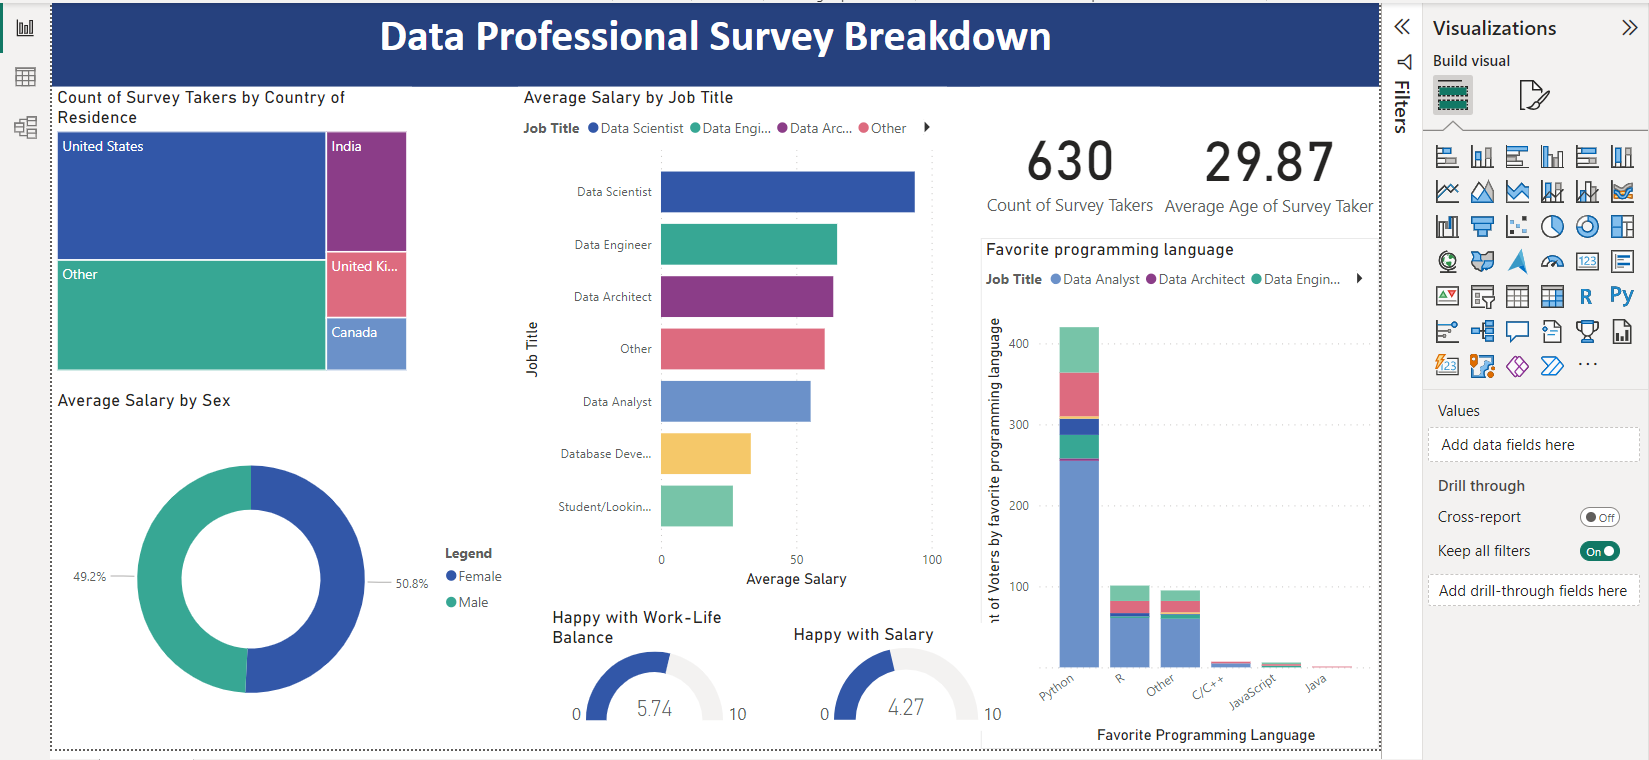

What the dashboard file says about the page in this screenshot:
{"tool":"powerbi","page":{"name":"Page 1","canvas":[1280,720],"ordinal":0},"visuals":[{"type":"textbox","box":[10,0,280,280],"z":0},{"type":"textbox","box":[10,290,280,280],"z":1000},{"type":"textbox","box":[0,0,1280.6,80.9],"z":2000},{"type":"card","fields":{"Values":["CountNonNull(Data Professional Survey.Unique ID)"]},"box":[896.1,80.8,172.5,149.5],"z":3000},{"type":"card","fields":{"Values":["Avg(Data Professional Survey.Q10 - Current Age)"]},"box":[1067.3,82,213.5,149.5],"z":4000},{"type":"barChart","title":"Average Salary by Job Title","fields":{"Category":["Data Professional Survey.Q1 - Which Title Best Fits your Current Role?.1"],"Y":["Avg(Data Professional Survey.Average Salary)"],"Series":["Data Professional Survey.Q1 - Which Title Best Fits your Current Role?.1"]},"box":[449.8,80.8,413.7,488.4],"z":5000},{"type":"columnChart","title":"Favorite programming language","fields":{"Category":["Data Professional Survey.Q5 - Favorite Programming Language.1"],"Y":["CountNonNull(Data Professional Survey.Unique ID)"],"Series":["Data Professional Survey.Q1 - Which Title Best Fits your Current Role?.1"]},"box":[896.1,226.7,383.5,493.3],"z":6000},{"type":"treemap","fields":{"Group":["Data Professional Survey.Q11 - Which Country do you live in?.1"],"Values":["CountNonNull(Data Professional Survey.Q11 - Which Country do you live in?.1)"]},"box":[0,80.8,347.3,278.6],"z":7000},{"type":"gauge","title":"Happy with Work-Life Balance","fields":{"Y":["Avg(Data Professional Survey.Q6 - How Happy are you in your Current Position with the following? (Work/Life Balance))"],"MinValue":["Min(Data Professional Survey.Q6 - How Happy are you in your Current Position with the following? (Work/Life Balance))1"],"MaxValue":["Max(Data Professional Survey.Q6 - How Happy are you in your Current Position with the following? (Work/Life Balance))2"]},"box":[477.6,582.5,215.9,119.4],"z":8000},{"type":"gauge","title":"Happy with Salary","fields":{"Y":["Avg(Data Professional Survey.Q6 - How Happy are you in your Current Position with the following? (Salary))"],"MinValue":["Min(Data Professional Survey.Q6 - How Happy are you in your Current Position with the following? (Salary))"],"MaxValue":["Max(Data Professional Survey.Q6 - How Happy are you in your Current Position with the following? (Salary))"]},"box":[710.4,598.2,236.4,103.7],"z":9000},{"type":"donutChart","title":"Average Salary by Sex","fields":{"Category":["Data Professional Survey.Q9 - Male/Female?"],"Y":["Avg(Data Professional Survey.Average Salary)"]},"box":[0,372.7,449.8,347.3],"z":9001}]}

Visuals, with their boxes in screenshot pixels (x1, y1, x2, y2):
textbox: [53, 0, 345, 287]
textbox: [53, 298, 345, 589]
textbox: [43, 0, 1376, 80]
card - CountNonNull(Data Professional Survey.Unique ID): [976, 80, 1155, 235]
card - Avg(Data Professional Survey.Q10 - Current Age): [1154, 81, 1376, 237]
"Average Salary by Job Title" barChart: [511, 80, 942, 588]
"Favorite programming language" columnChart: [976, 232, 1375, 745]
treemap - Data Professional Survey.Q11 - Which Country do you live in?.1 x CountNonNull(Data Professional Survey.Q11 - Which Country do you live in?.1): [43, 80, 405, 370]
"Happy with Work-Life Balance" gauge: [540, 602, 765, 726]
"Happy with Salary" gauge: [783, 618, 1029, 726]
"Average Salary by Sex" donutChart: [43, 384, 511, 745]
